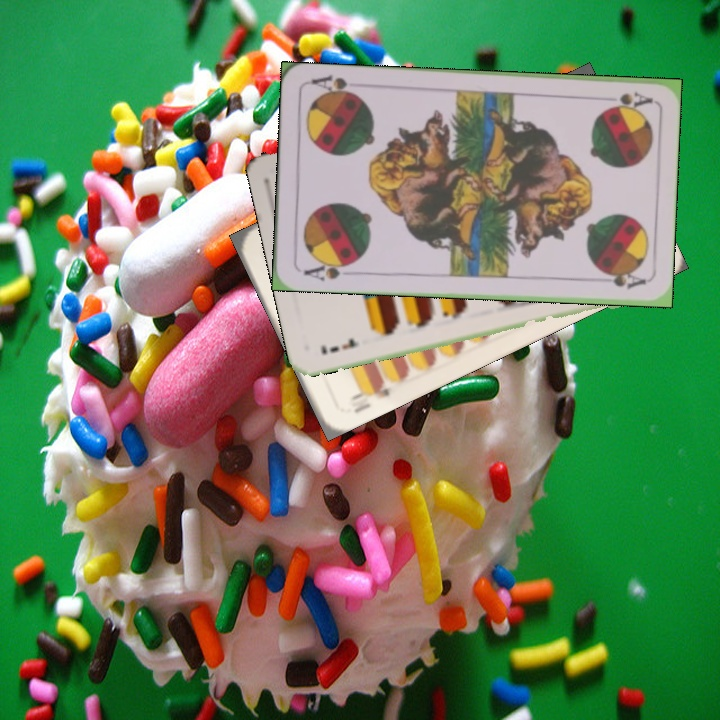E10: (346, 376, 393, 403)
E7: (317, 334, 362, 357)
SA: (299, 256, 357, 284), (604, 88, 654, 111)
